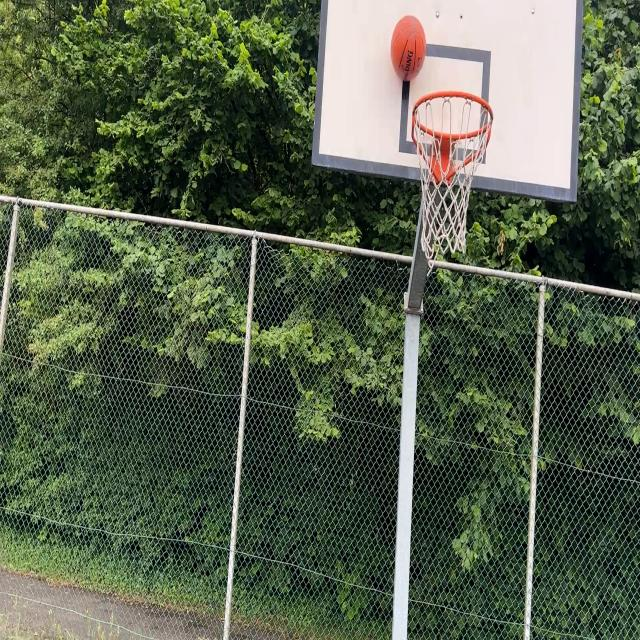rebound_hit: (390, 15, 428, 82)
